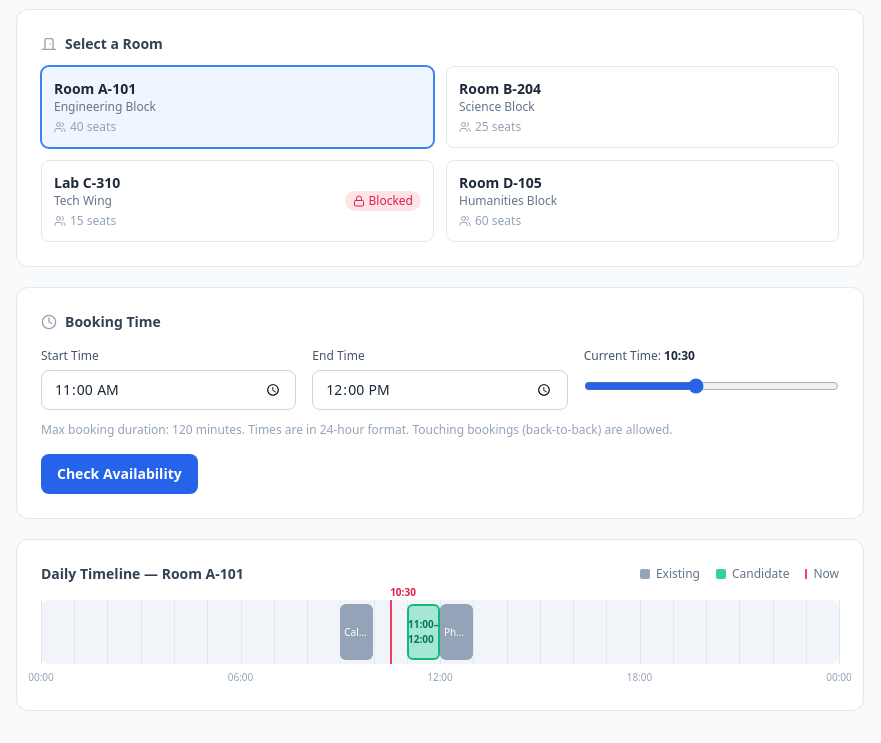
Scenario: App explain availability UI › U05 — Explain button appears after a check and shows an AI-generated explanation (mock)
The width and height of the screenshot is (881, 743).
(page scrolled)
Click the button "Check Availability" at (119,474), box 41,454 -> 198,494
(page scrolled)
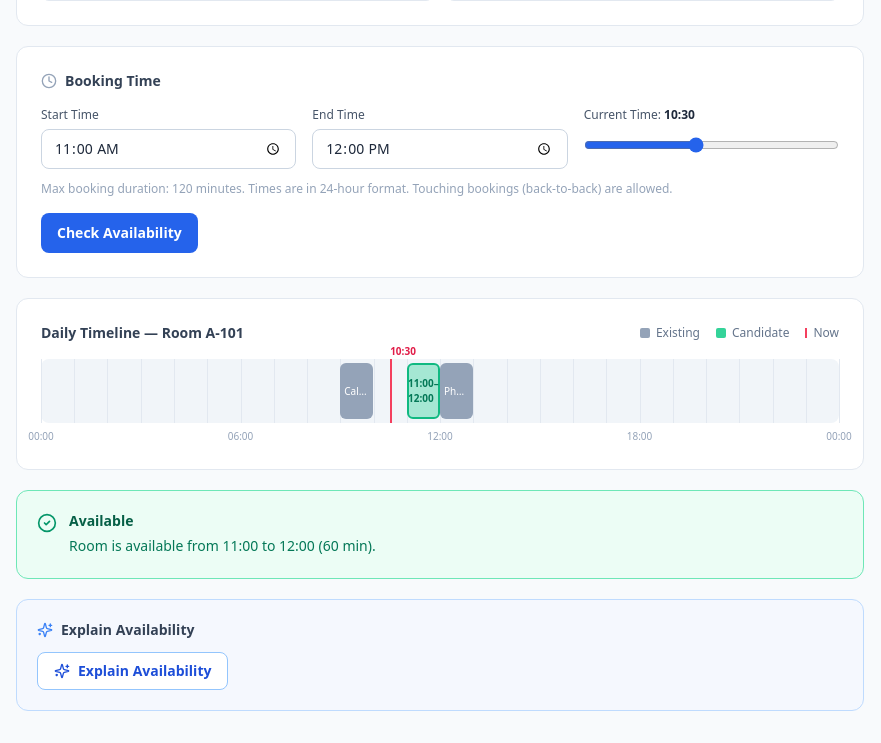
Now the text "Available" is shown, box 69,511 -> 134,531
Now the button "Explain Availability" is shown
Click the button "Explain Availability" at (133,671), box 37,652 -> 228,690
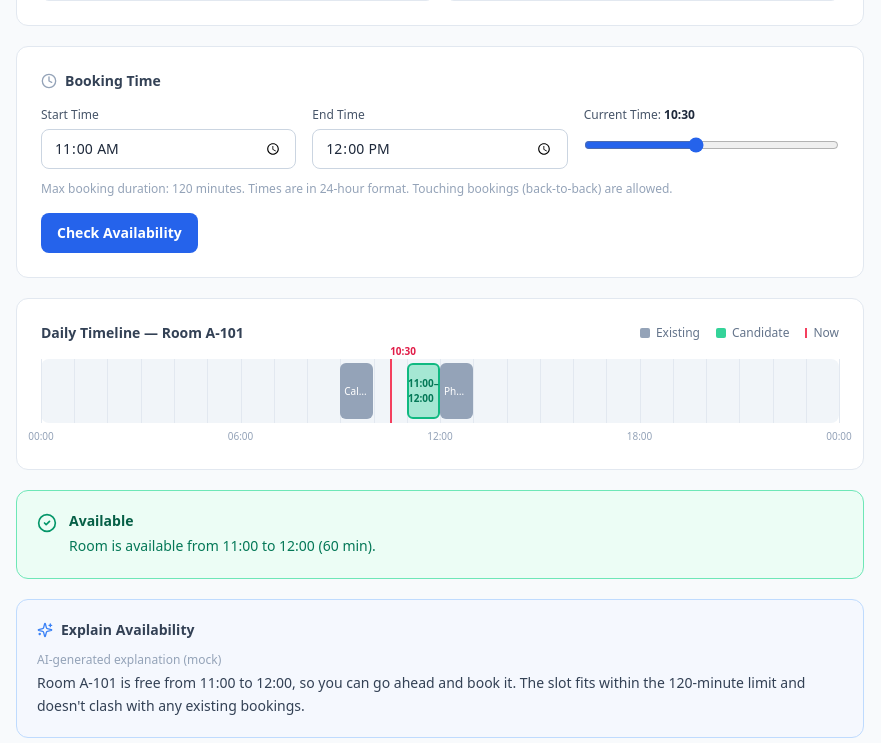
Now the text "AI-generated explanation (mock)" is shown, box 37,651 -> 221,668
Now the text "Room A-101" is shown, box 37,673 -> 805,715
